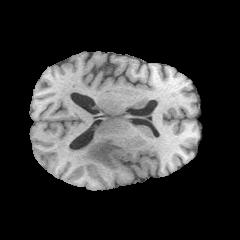glioma: (68, 139, 123, 170)
